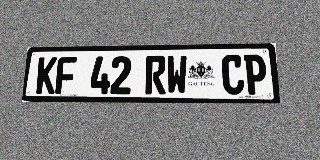2: (110, 56, 131, 94)
4: (90, 56, 111, 94)
C: (221, 55, 245, 95)
F: (55, 57, 77, 94)
K: (35, 57, 57, 94)
P: (244, 54, 268, 95)
R: (145, 56, 166, 94)
W: (166, 55, 187, 94)
